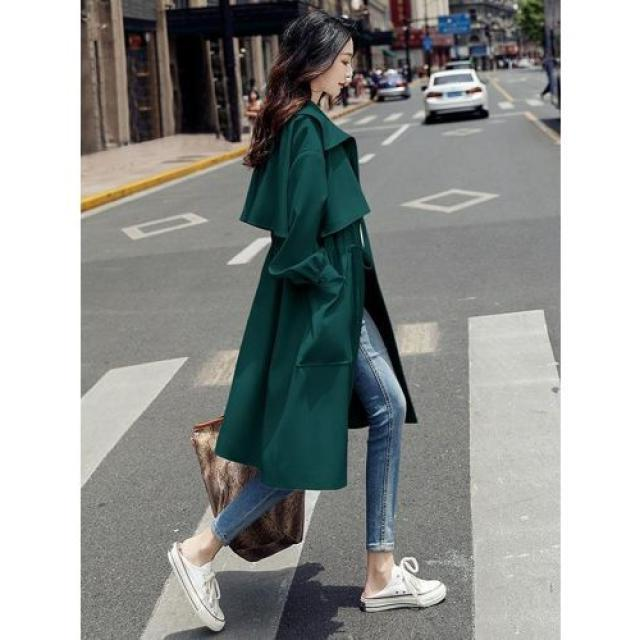jacket: (210, 98, 421, 491)
trousers: (208, 294, 406, 554)
